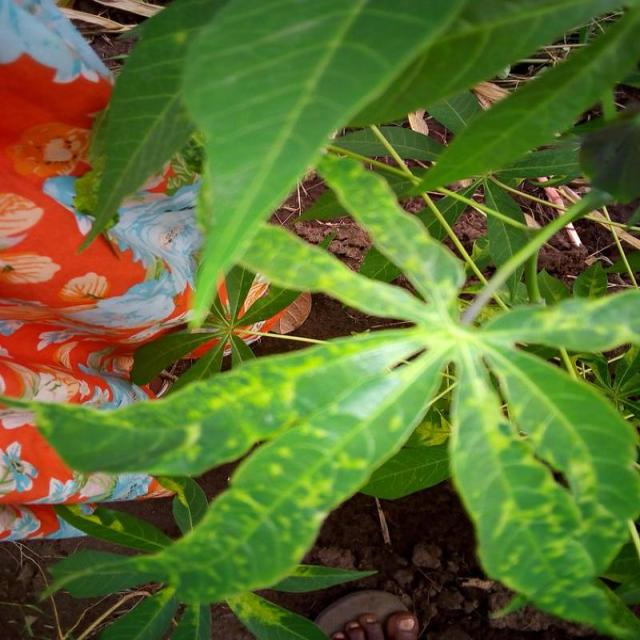cassava leaf: (29, 1, 640, 637)
